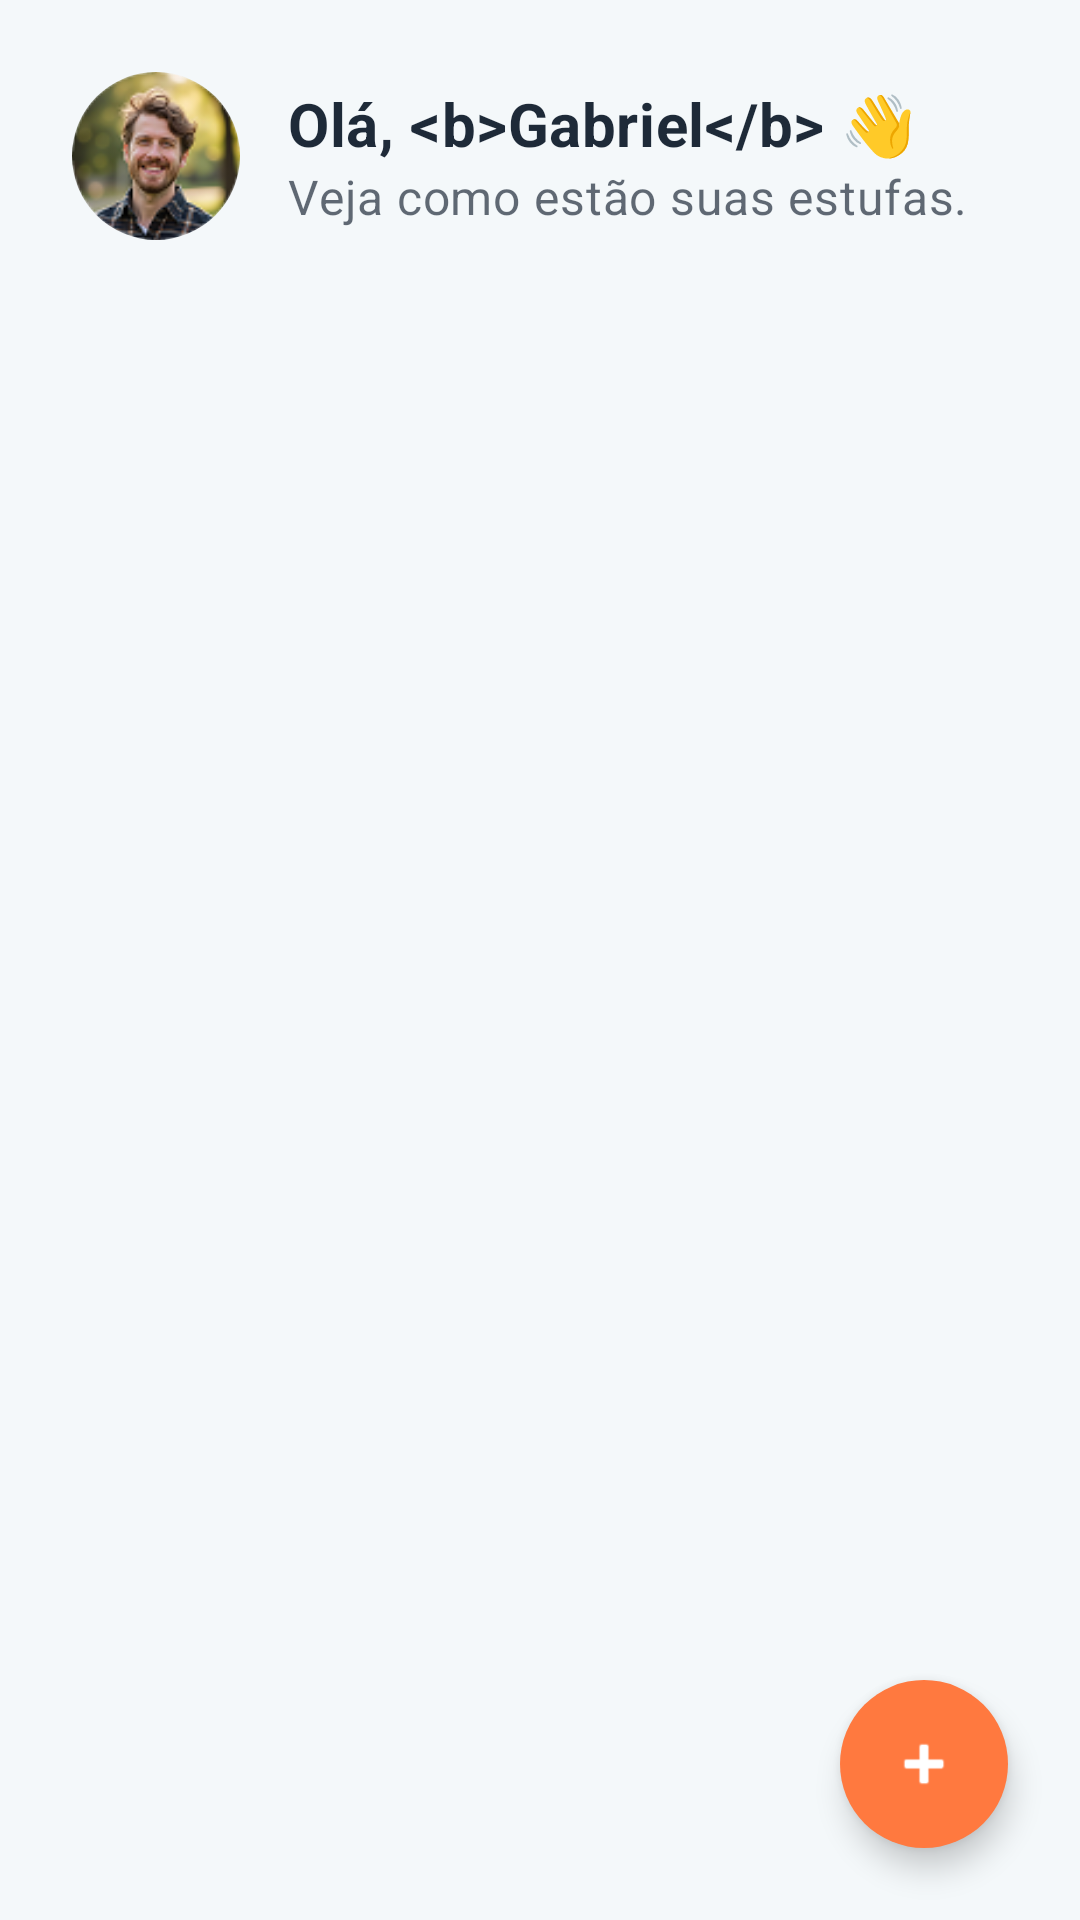

Icons on this 1080 x 1920 Android screen, each with its box as (x1, y1, x2, y2):
Adicionar estufa: (840, 1680, 1008, 1848)
